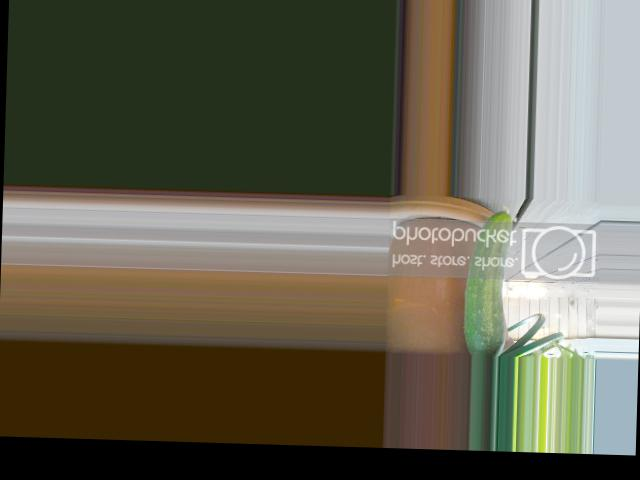cucumber: (463, 203, 513, 355)
